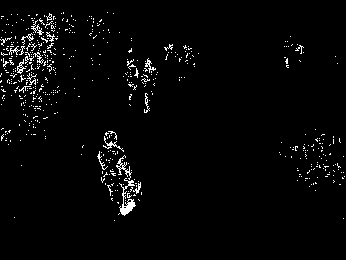person: (97, 130, 143, 219), (141, 59, 158, 115), (124, 57, 141, 105)
